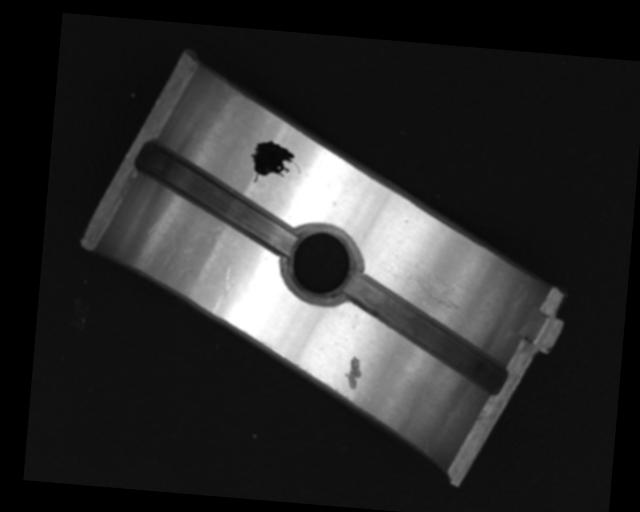blot: (246, 137, 302, 187)
bruise: (343, 353, 364, 391)
gap: (341, 274, 510, 391), (132, 138, 302, 250)
hole: (279, 220, 365, 305)
nick: (210, 266, 237, 315)
scratch: (398, 262, 472, 314)
